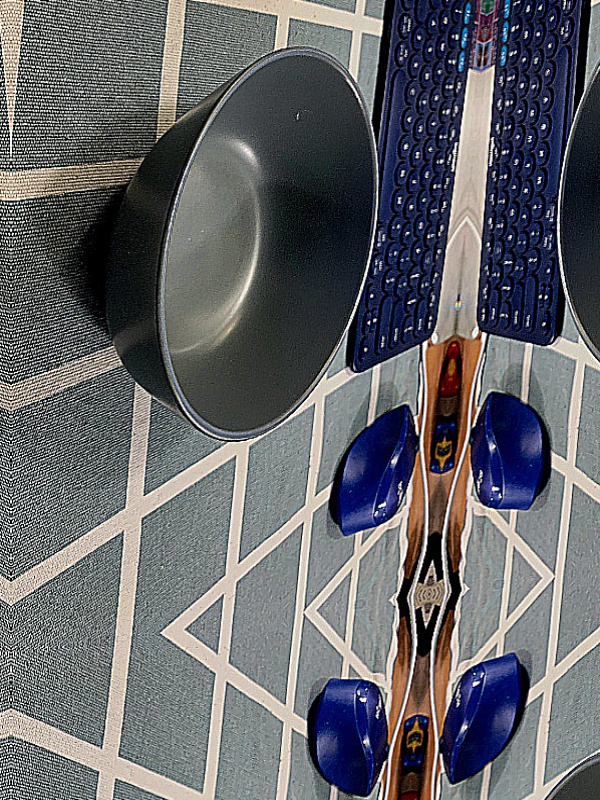bowl_big: (78, 25, 399, 473)
